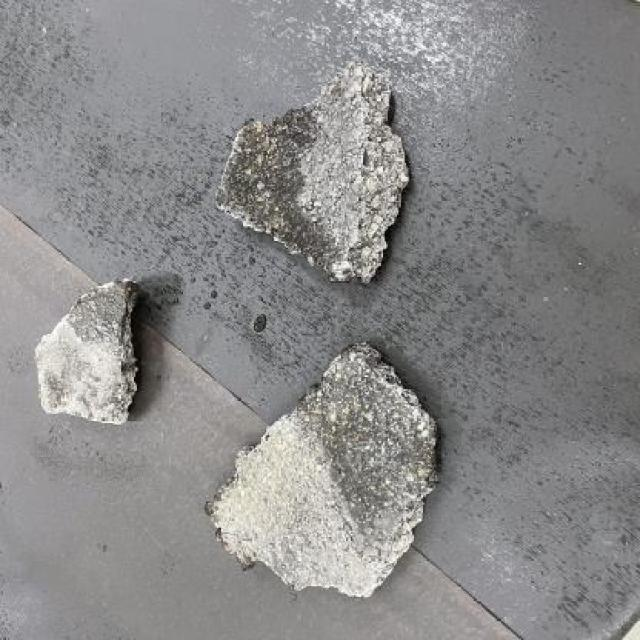Road Debris: (303, 344, 428, 566), (220, 103, 340, 268), (65, 278, 142, 338)
